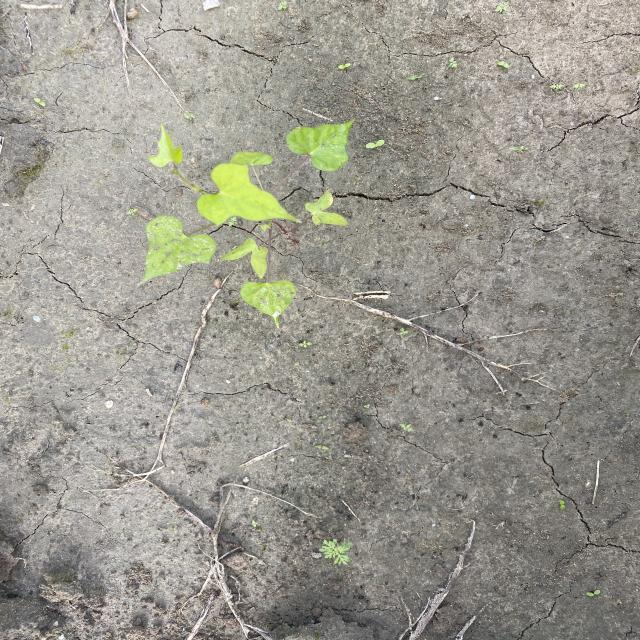MorningGlory: (136, 116, 358, 331)
Ragweed: (316, 535, 354, 566)
